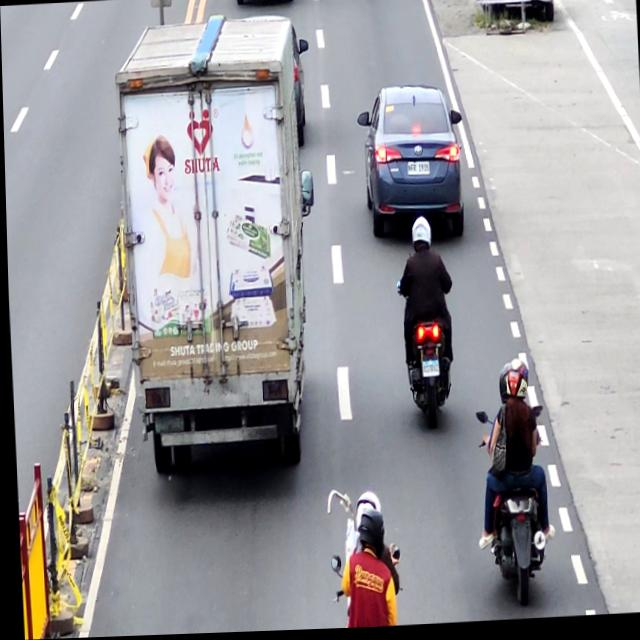Car: (352, 84, 467, 250)
License-Plate: (148, 414, 184, 437), (404, 162, 429, 179), (418, 363, 438, 380)
Motorcycle: (475, 405, 549, 612), (391, 275, 455, 434)
Truck: (111, 16, 320, 483)
